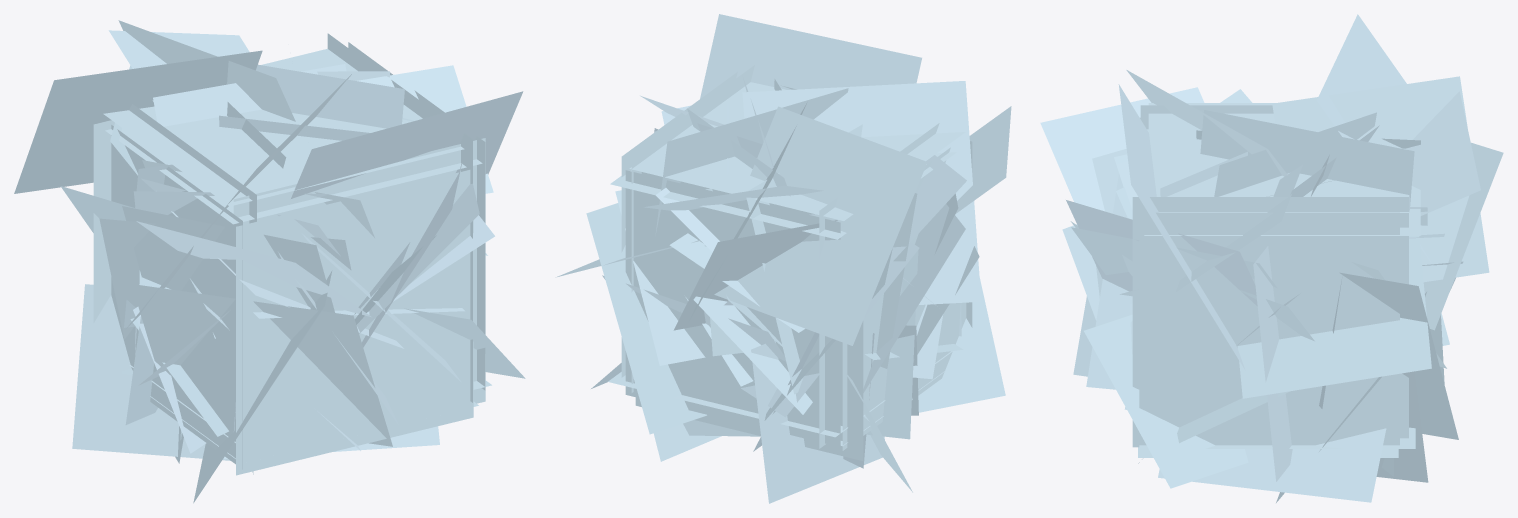
File: fog-cube.glb
3 views of the same model, side by side, from view 1: azimuth 30°, elevation 25°; view 2: azimuth 150°, elevation 25°; view 3: azimuth 270°, elevation 25° (orthographic). The views are drawn at different scales.
Parts seen in each view (by area): view 1: FogCube; view 2: FogCube; view 3: FogCube.
Boxes of the visible parts, x1=… form: FogCube: x1=14, y1=20, x2=525, y2=503; FogCube: x1=555, y1=14, x2=1011, y2=503; FogCube: x1=1040, y1=14, x2=1503, y2=502.
Size of the model in its own units: 1.32 by 1.25 by 1.48.
Materials: 1 (1 with a texture image).
